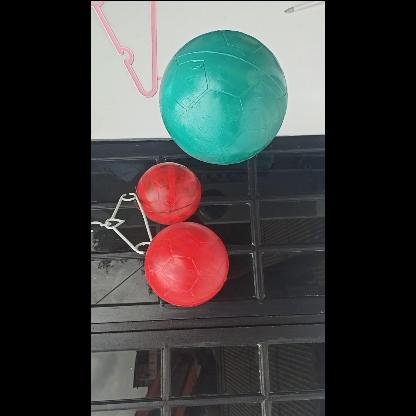red_ball: (145, 223, 227, 305), (137, 162, 201, 226)
